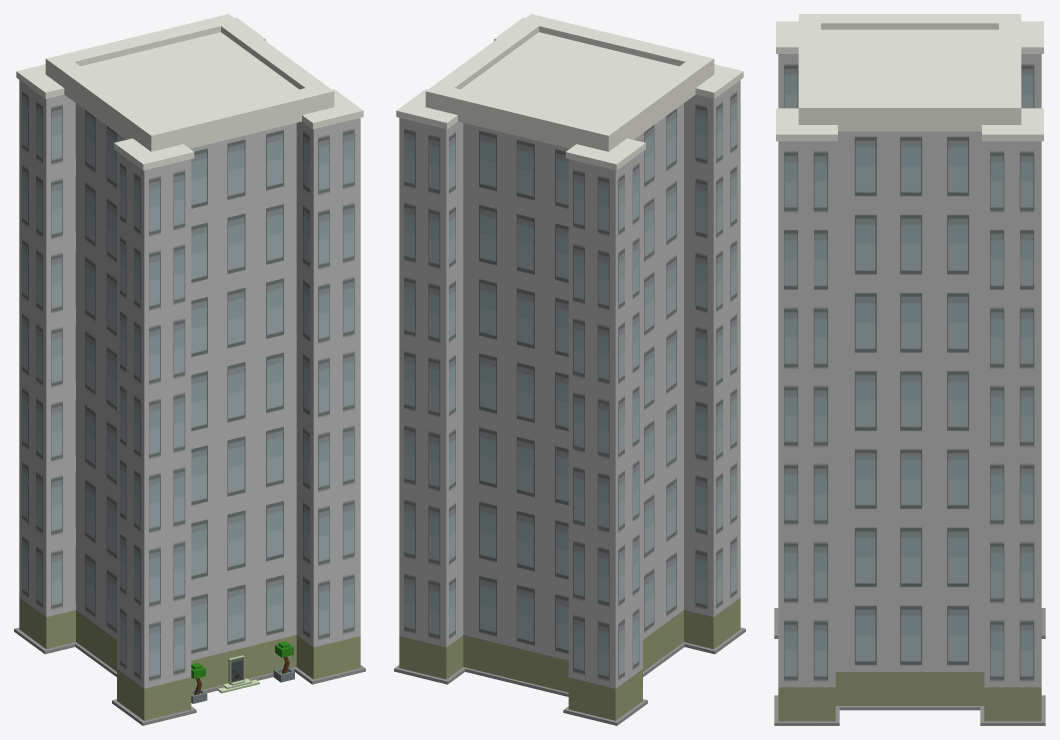
File: Corner Pilars Basic Seven Floor.fbx
3 views of the same model, side by side, from view 1: azimuth 30°, elevation 25°; view 2: azimuth 150°, elevation 25°; view 3: azimuth 270°, elevation 25° (orthographic). The views are drawn at different scales.
Parts seen in each view (by area): view 1: Corner Pilars Basic Seven Floor; view 2: Corner Pilars Basic Seven Floor; view 3: Corner Pilars Basic Seven Floor.
Boxes of the visible parts, bbox=[...] form: Corner Pilars Basic Seven Floor: bbox=[14, 14, 365, 725]; Corner Pilars Basic Seven Floor: bbox=[394, 14, 745, 725]; Corner Pilars Basic Seven Floor: bbox=[774, 14, 1045, 725].
Size of the model in its own units: 7.37 by 18.22 by 7.37.
